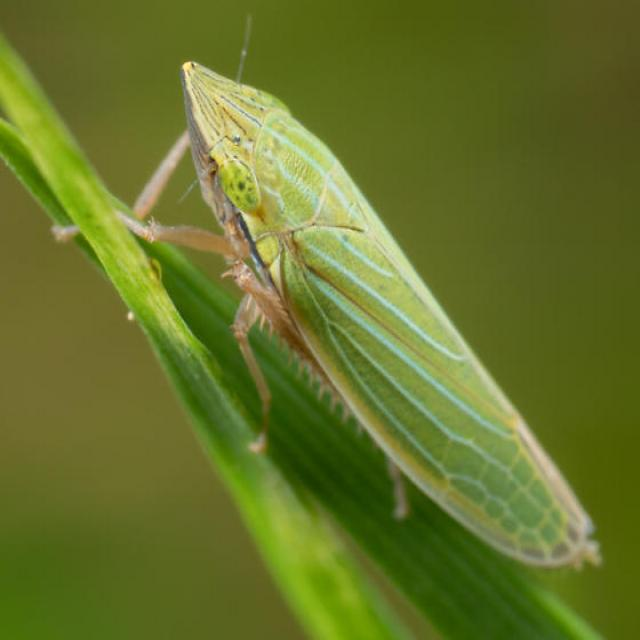Yechan: (162, 38, 620, 590)
